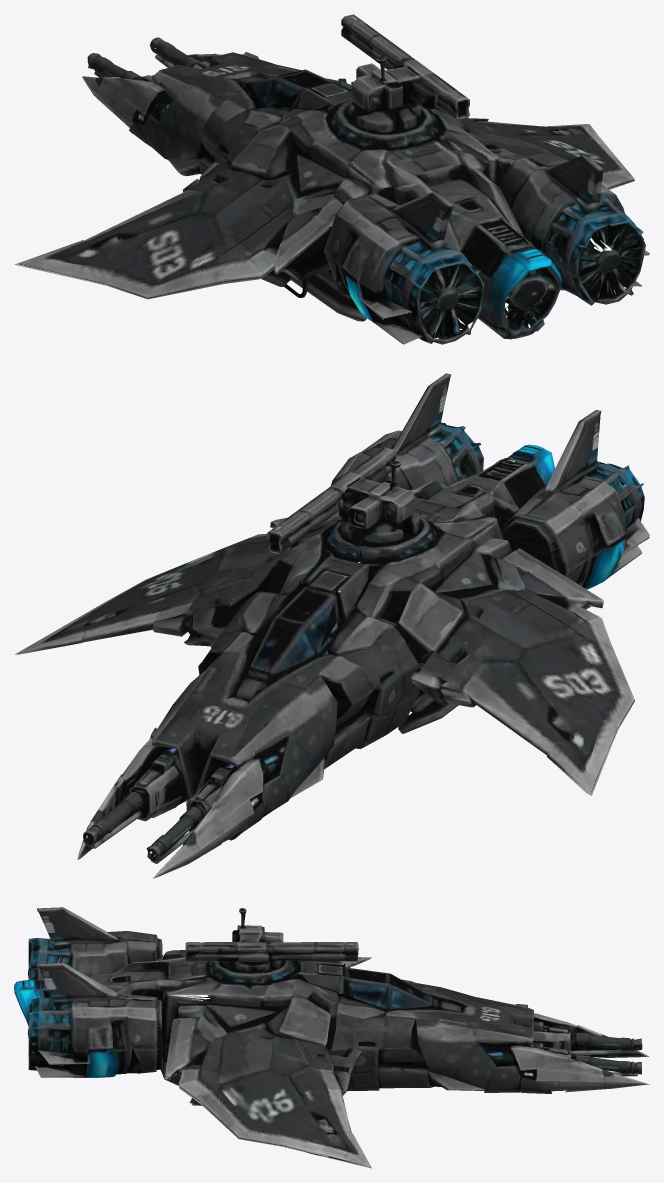
File: enemy-merc.glb
3 renders of one model, top to bottom at view 1: azimuth 30°, elevation 25°; view 2: azimuth 150°, elevation 25°; view 3: azimuth 270°, elevation 25°, orthographic. The views are drawn at different scales.
Parts seen in each view (by area): view 1: geometry_0; view 2: geometry_0; view 3: geometry_0.
Part boxes in pixels (left/top/right/bottom): geometry_0: left=14, top=14, right=649, bottom=344; geometry_0: left=15, top=373, right=649, bottom=878; geometry_0: left=14, top=907, right=649, bottom=1168.
Bounding box in the file's own units: 1.57 × 0.6068 × 2.
1 material, 1 textured.
